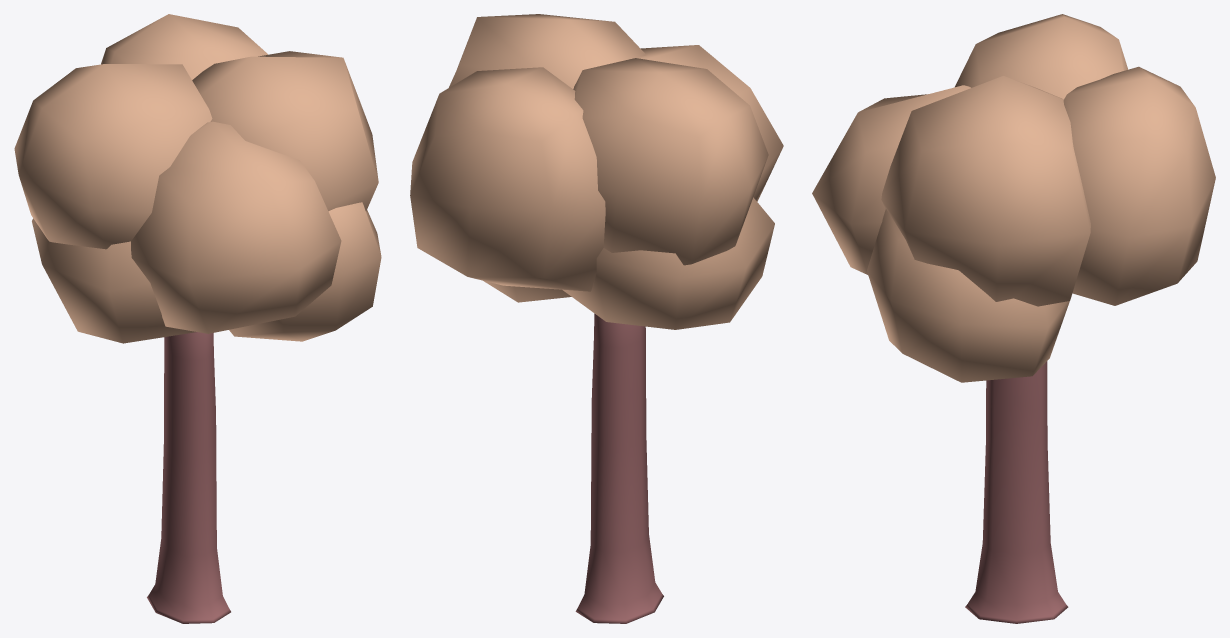
File: tree2.glb
The picture shows the model from 3 angles, left to right: view 1: azimuth 30°, elevation 25°; view 2: azimuth 150°, elevation 25°; view 3: azimuth 270°, elevation 25°; orthographic projection. The views are drawn at different scales.
Parts seen in each view (by area): view 1: Tree2; view 2: Tree2; view 3: Tree2.
Boxes of the visible parts, left/top/right/bottom form: Tree2: left=14, top=14, right=381, bottom=623; Tree2: left=410, top=14, right=783, bottom=623; Tree2: left=812, top=14, right=1215, bottom=623.
Size of the model in its own units: 3.3 by 5.28 by 3.45.
Materials: 1 (1 with a texture image).
